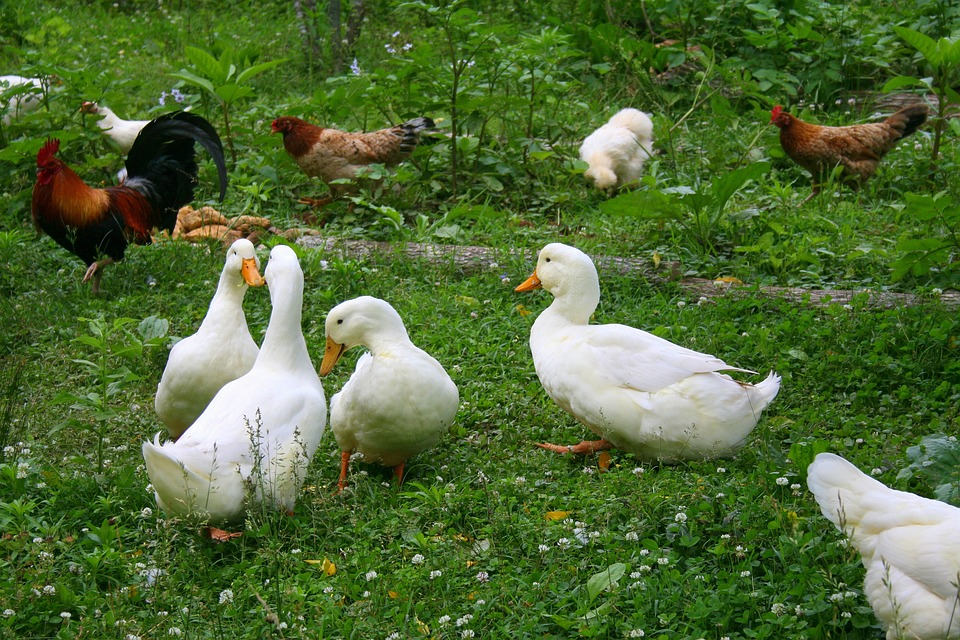ayam: (16, 91, 229, 277), (744, 73, 946, 199), (260, 92, 439, 214), (565, 99, 670, 199)
bebek: (160, 222, 473, 551), (495, 232, 799, 469)
